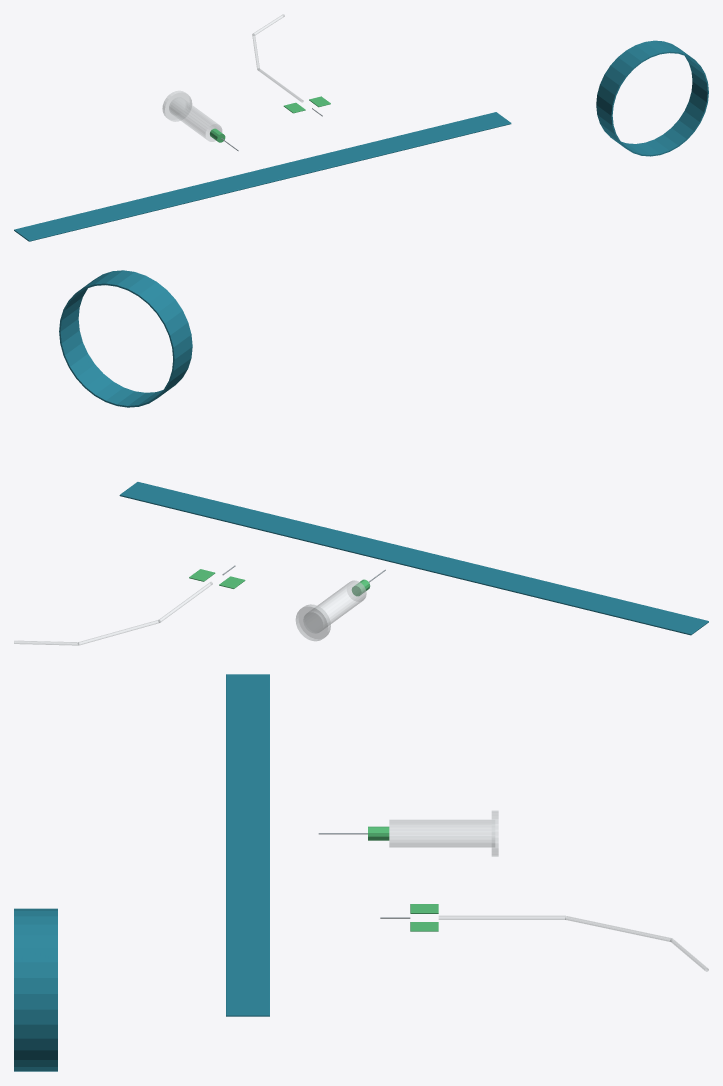
Rendered from blood_collection_set.fbx.
The picture shows the model from 3 angles, top to bottom: view 1: azimuth 30°, elevation 25°; view 2: azimuth 150°, elevation 25°; view 3: azimuth 270°, elevation 25°; orthographic projection. The views are drawn at different scales.
Visible parts, largest first — view 1: EQ_blood_collection_set_Body, EQ_blood_collection_set_Wrapped, EQ_blood_collection_set_Holder, EQ_blood_collection_set_HolderFlange; view 2: EQ_blood_collection_set_Body, EQ_blood_collection_set_Wrapped, EQ_blood_collection_set_Holder, EQ_blood_collection_set_HolderFlange; view 3: EQ_blood_collection_set_Body, EQ_blood_collection_set_Wrapped, EQ_blood_collection_set_Holder, EQ_blood_collection_set_ButterflyTubing_0.
Part boxes in pixels (x1,y1,x2,y2): EQ_blood_collection_set_Body: (14, 112, 511, 241); EQ_blood_collection_set_Wrapped: (596, 40, 708, 156); EQ_blood_collection_set_Holder: (169, 97, 222, 141); EQ_blood_collection_set_HolderFlange: (162, 90, 192, 121); EQ_blood_collection_set_Body: (119, 482, 708, 635); EQ_blood_collection_set_Wrapped: (59, 270, 192, 407); EQ_blood_collection_set_Holder: (303, 580, 366, 633); EQ_blood_collection_set_HolderFlange: (295, 604, 330, 641); EQ_blood_collection_set_Body: (226, 674, 269, 1016); EQ_blood_collection_set_Wrapped: (14, 908, 57, 1071); EQ_blood_collection_set_Holder: (389, 819, 494, 847); EQ_blood_collection_set_ButterflyTubing_0: (438, 915, 565, 919).
Bounding box in the file's own units: 0.5747 × 0.1012 × 0.3936.
